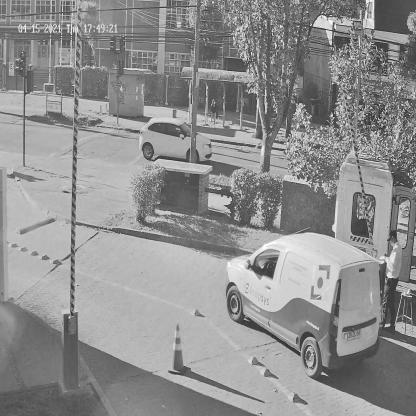Patente: (347, 325, 363, 342)
